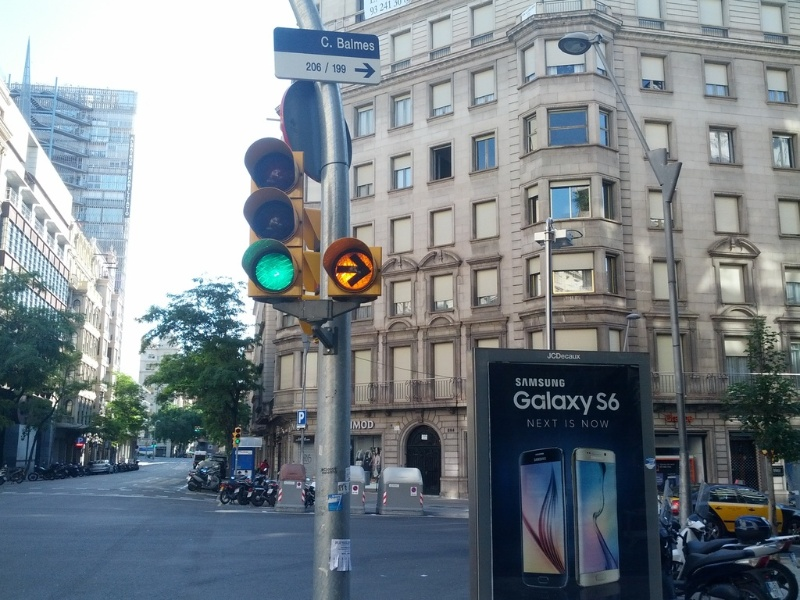green_light: (237, 237, 310, 315)
right_direction: (319, 240, 396, 314)
